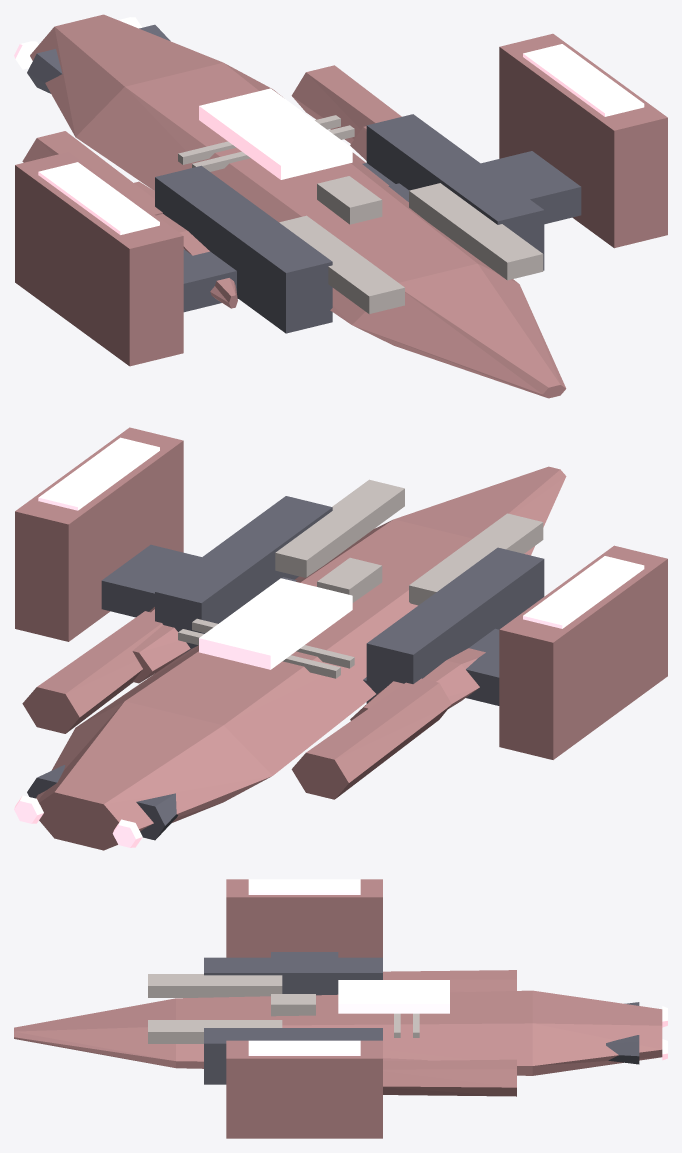
3 renders of one model, top to bottom at view 1: azimuth 30°, elevation 25°; view 2: azimuth 150°, elevation 25°; view 3: azimuth 270°, elevation 25°, orthographic. The views are drawn at different scales.
Bounding box in the file's own units: 6.9 × 1.67 × 10.65.
